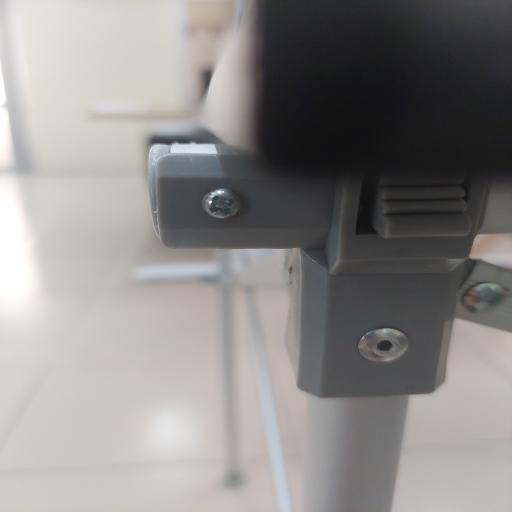Phillips: (203, 190, 242, 222)
